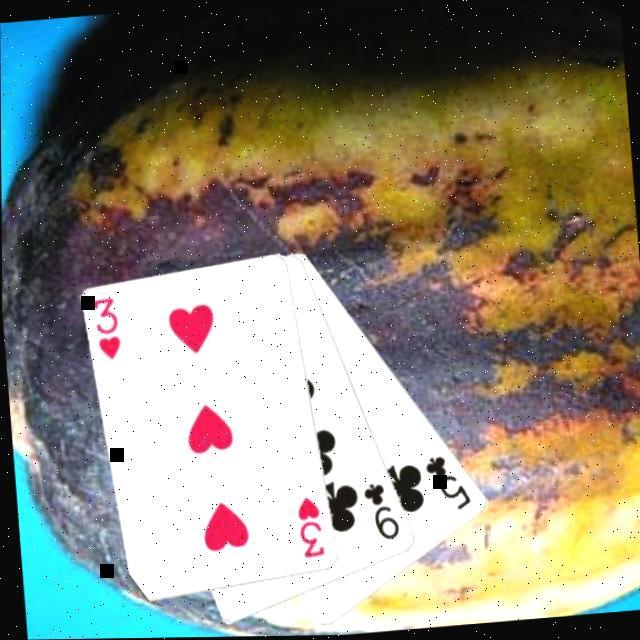3H: (90, 295, 125, 365), (294, 494, 328, 564)
5C: (422, 452, 476, 517)
9C: (359, 479, 404, 547)
